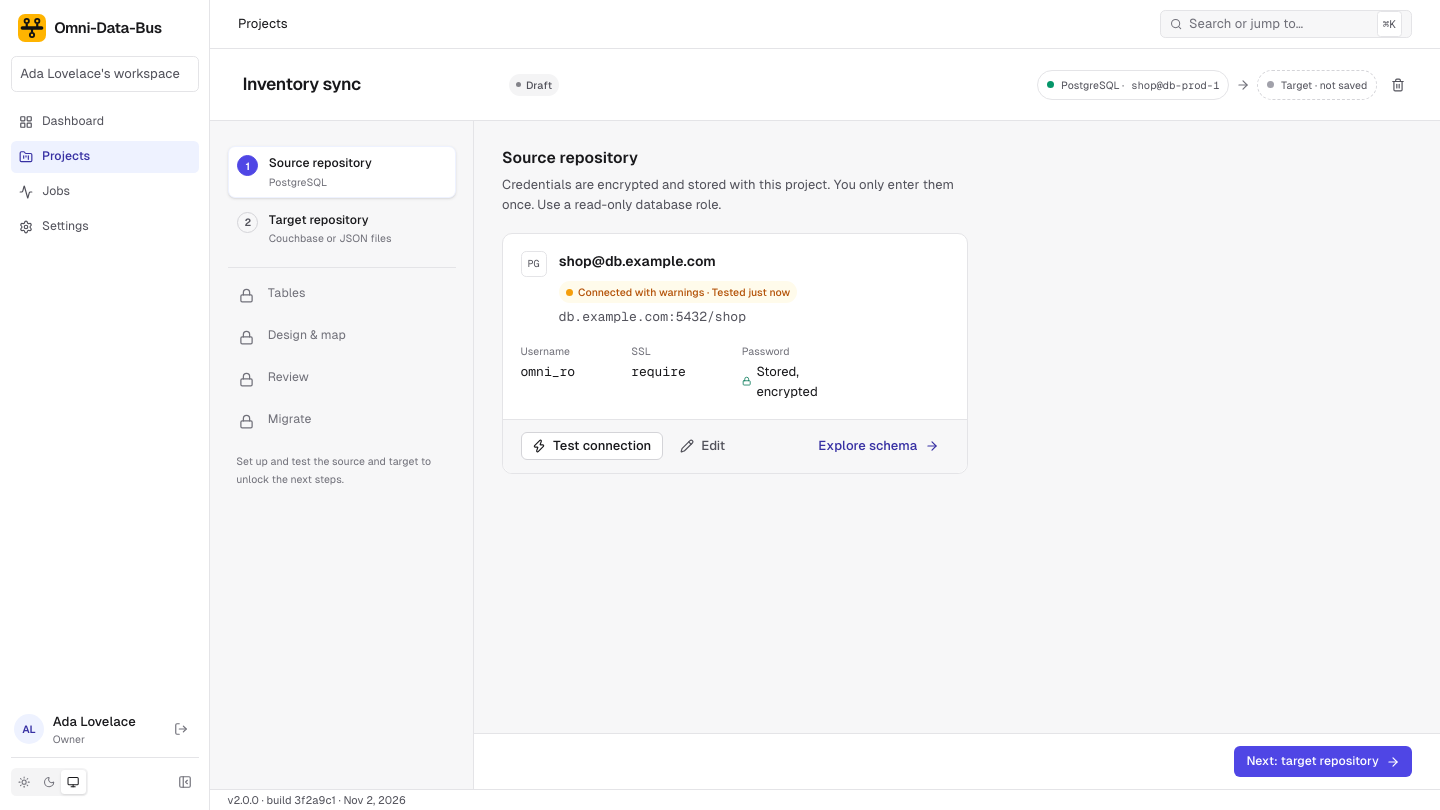
Source step › AC5: summary card after save with re-test using stored credentials
Expected: the element "shop@db.example.com" shows "Connected with warnings", [578, 286, 704, 298]
Expected: the element "shop@db.example.com" shows "omni_ro", [520, 362, 575, 380]
Click the button "Test connection".
click(592, 446)  # box [520, 432, 663, 460]
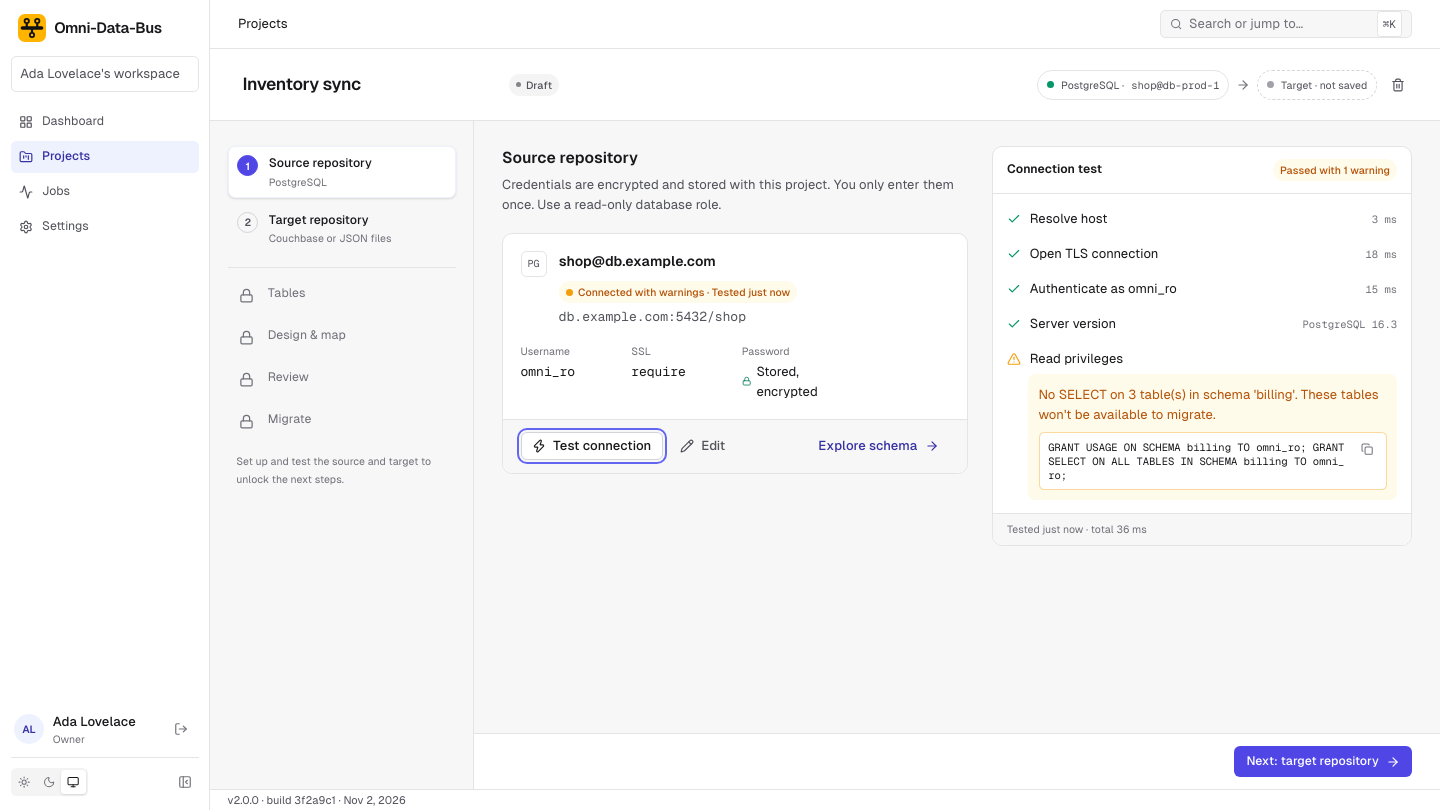
Result: the text "Passed with 1 warning" is shown at [1273, 159, 1397, 181]
